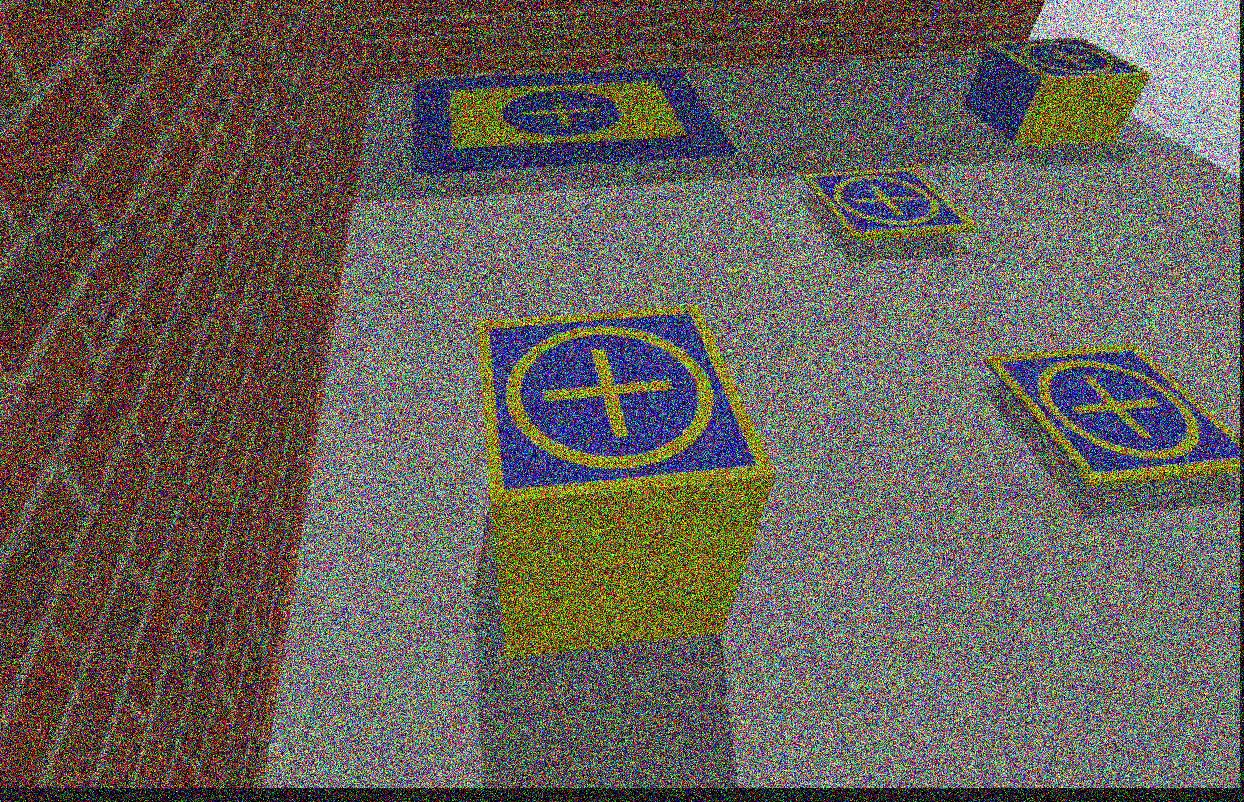large_base: (412, 69, 738, 166)
small_base: (479, 304, 769, 509), (986, 338, 1244, 487), (805, 164, 978, 247), (992, 41, 1149, 85)
